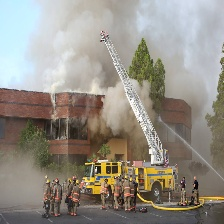smoke: (13, 3, 224, 142)
